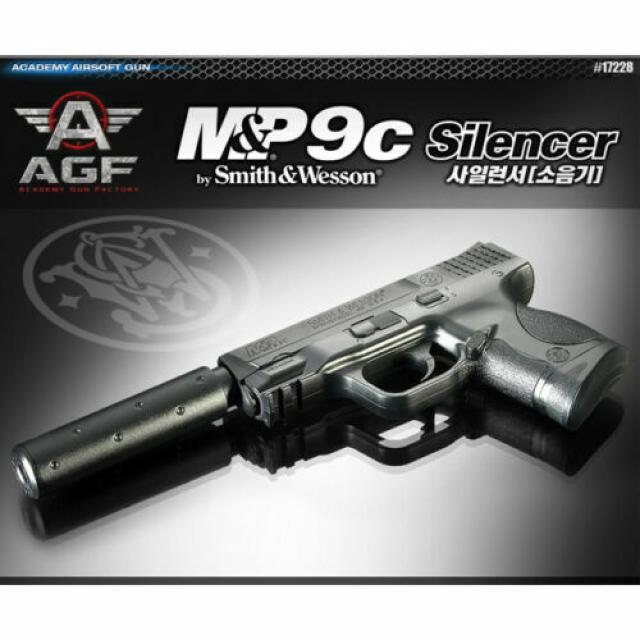HandGun: (4, 237, 634, 503)
